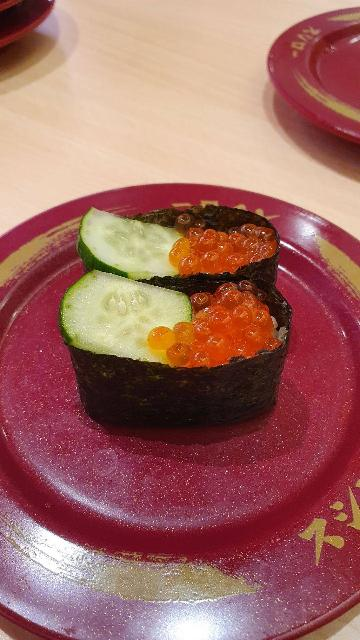janred: (0, 201, 347, 610), (264, 17, 360, 155), (0, 0, 68, 50)
